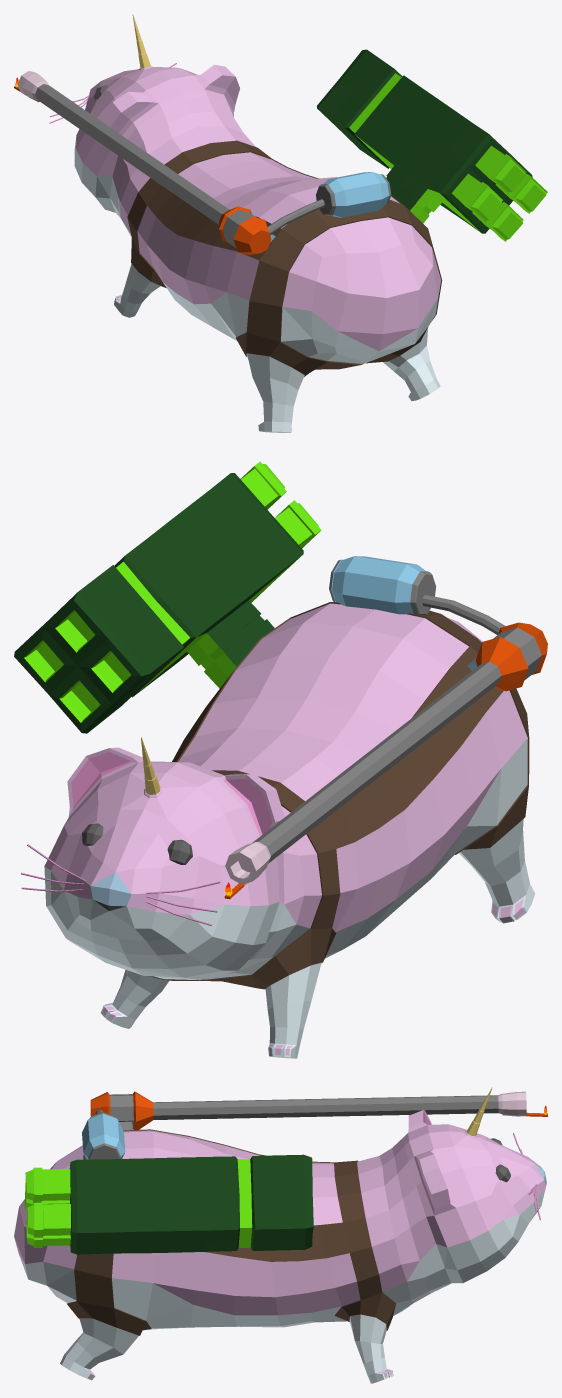
The model's file is ChomikBezKuli.fbx.
3 renders of one model, top to bottom at view 1: azimuth 30°, elevation 25°; view 2: azimuth 150°, elevation 25°; view 3: azimuth 270°, elevation 25°, orthographic. The views are drawn at different scales.
Parts seen in each view (by area): view 1: ChomikWB; view 2: ChomikWB; view 3: ChomikWB.
Part boxes in pixels (x1,y1,x2,y2): ChomikWB: [14, 14, 547, 432]; ChomikWB: [14, 461, 547, 1058]; ChomikWB: [14, 1087, 547, 1383].
Size of the model in its own units: 403 by 353 by 650.
